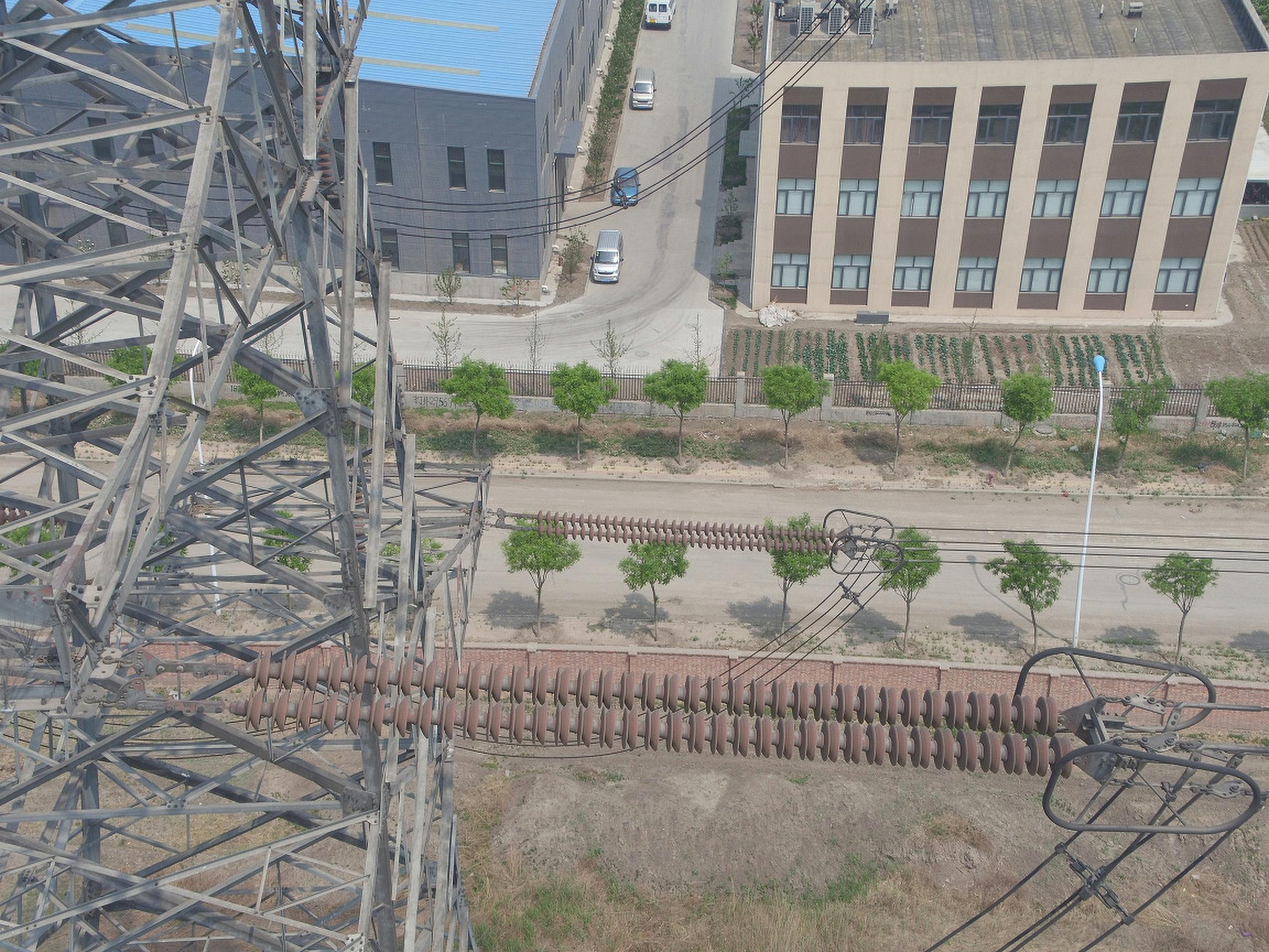insulator: (238, 643, 1078, 782), (535, 509, 840, 556), (314, 81, 335, 193)
